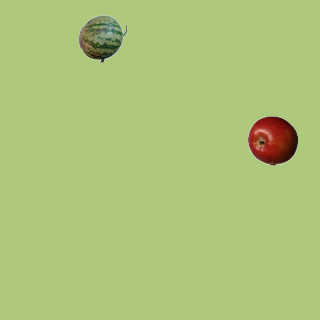Apple Braeburn: (247, 115, 297, 165)
Watermelon: (77, 13, 127, 63)
